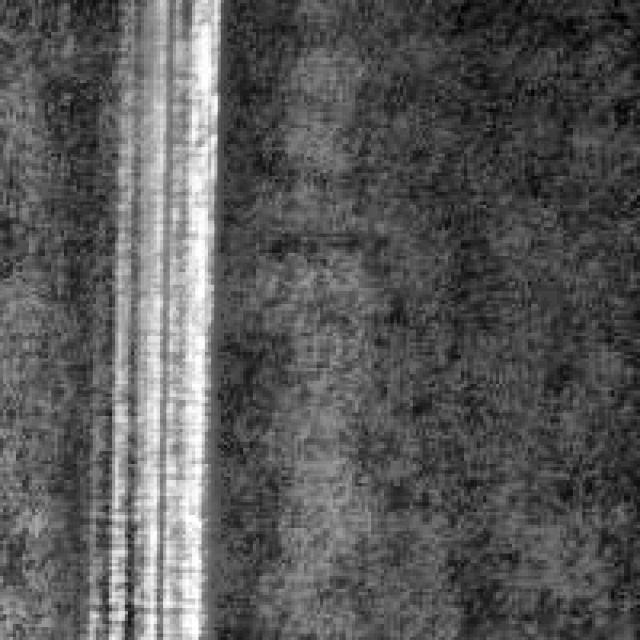Inclusion: (105, 0, 211, 630)
